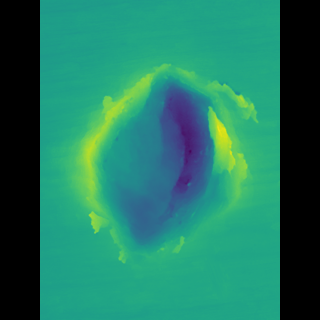Loch: (81, 60, 235, 275)
